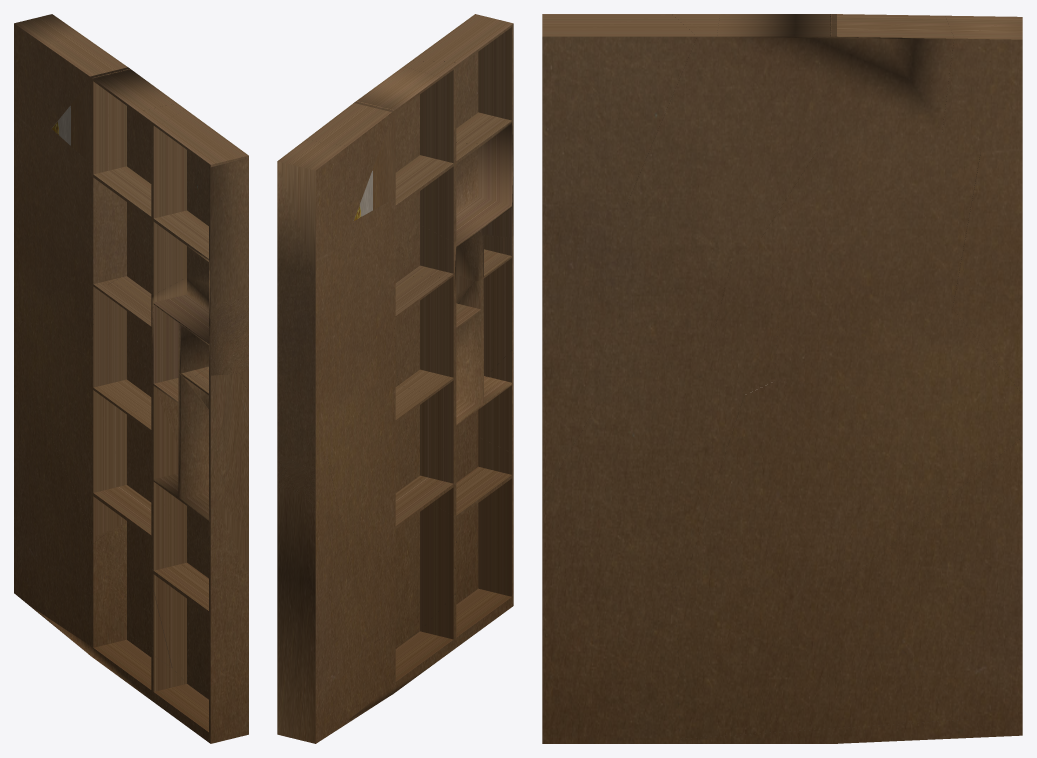
Rendered from Tu_Tuong_Fractured.fbx.
The picture shows the model from 3 angles, left to right: view 1: azimuth 30°, elevation 25°; view 2: azimuth 150°, elevation 25°; view 3: azimuth 270°, elevation 25°; orthographic projection. The views are drawn at different scales.
Visible parts, largest first — view 1: tu_tuong_cell.008, tu_tuong_cell.014, tu_tuong_cell.005, tu_tuong_cell.011, tu_tuong_cell.012, tu_tuong_cell.017, tu_tuong_cell.016, tu_tuong_cell, tu_tuong_cell.003, tu_tuong_cell.002, tu_tuong_cell.009, tu_tuong_cell.001 (+6 smaller); view 2: tu_tuong_cell.011, tu_tuong_cell.014, tu_tuong_cell.002, tu_tuong_cell.008, tu_tuong_cell.005, tu_tuong_cell, tu_tuong_cell.016, tu_tuong_cell.013, tu_tuong_cell.009, tu_tuong_cell.012, tu_tuong_cell.003, tu_tuong_cell.001 (+5 smaller); view 3: tu_tuong_cell.008, tu_tuong_cell.003, tu_tuong_cell.014, tu_tuong_cell.011, tu_tuong_cell.017, tu_tuong_cell, tu_tuong_cell.005, tu_tuong_cell.016, tu_tuong_cell.012, tu_tuong_cell.015, tu_tuong_cell.009, tu_tuong_cell.002 (+5 smaller).
Boxes of the visible parts, x1,y1,x2,y2 form: tu_tuong_cell.008: (25, 323, 151, 537); tu_tuong_cell.014: (129, 346, 248, 589); tu_tuong_cell.005: (154, 557, 248, 743); tu_tuong_cell.011: (14, 362, 104, 602); tu_tuong_cell.012: (46, 33, 176, 166); tu_tuong_cell.017: (51, 129, 151, 285); tu_tuong_cell.016: (158, 109, 248, 304); tu_tuong_cell: (97, 103, 208, 295); tu_tuong_cell.003: (68, 522, 189, 683); tu_tuong_cell.002: (14, 125, 63, 323); tu_tuong_cell.009: (146, 272, 248, 376); tu_tuong_cell.001: (26, 574, 187, 705); tu_tuong_cell.011: (277, 488, 395, 743); tu_tuong_cell.014: (397, 279, 513, 516); tu_tuong_cell.002: (277, 222, 365, 466); tu_tuong_cell.008: (277, 374, 447, 570); tu_tuong_cell.005: (456, 437, 513, 644); tu_tuong_cell: (395, 60, 480, 253); tu_tuong_cell.016: (412, 14, 513, 171); tu_tuong_cell.013: (277, 140, 352, 272); tu_tuong_cell.009: (403, 156, 513, 299); tu_tuong_cell.012: (306, 66, 440, 221); tu_tuong_cell.003: (370, 503, 456, 644); tu_tuong_cell.001: (328, 594, 460, 735); tu_tuong_cell.008: (689, 381, 1022, 587); tu_tuong_cell.003: (675, 566, 971, 738); tu_tuong_cell.014: (542, 329, 744, 572); tu_tuong_cell.011: (839, 437, 1022, 736); tu_tuong_cell.017: (760, 132, 980, 308); tu_tuong_cell: (626, 14, 822, 257); tu_tuong_cell.005: (542, 545, 679, 743); tu_tuong_cell.016: (542, 14, 696, 206); tu_tuong_cell.012: (717, 14, 954, 142); tu_tuong_cell.015: (774, 277, 1021, 393); tu_tuong_cell.009: (542, 206, 732, 332); tu_tuong_cell.002: (952, 152, 1022, 393).
Bounding box in the file's own units: 175 × 2534 × 1560.
